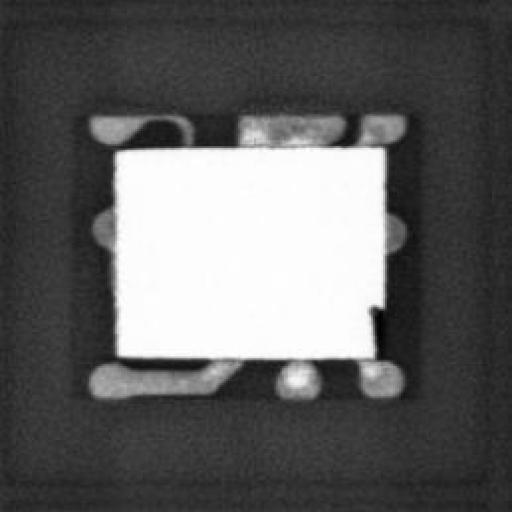DIE_BROKEN: (365, 300, 385, 360)
